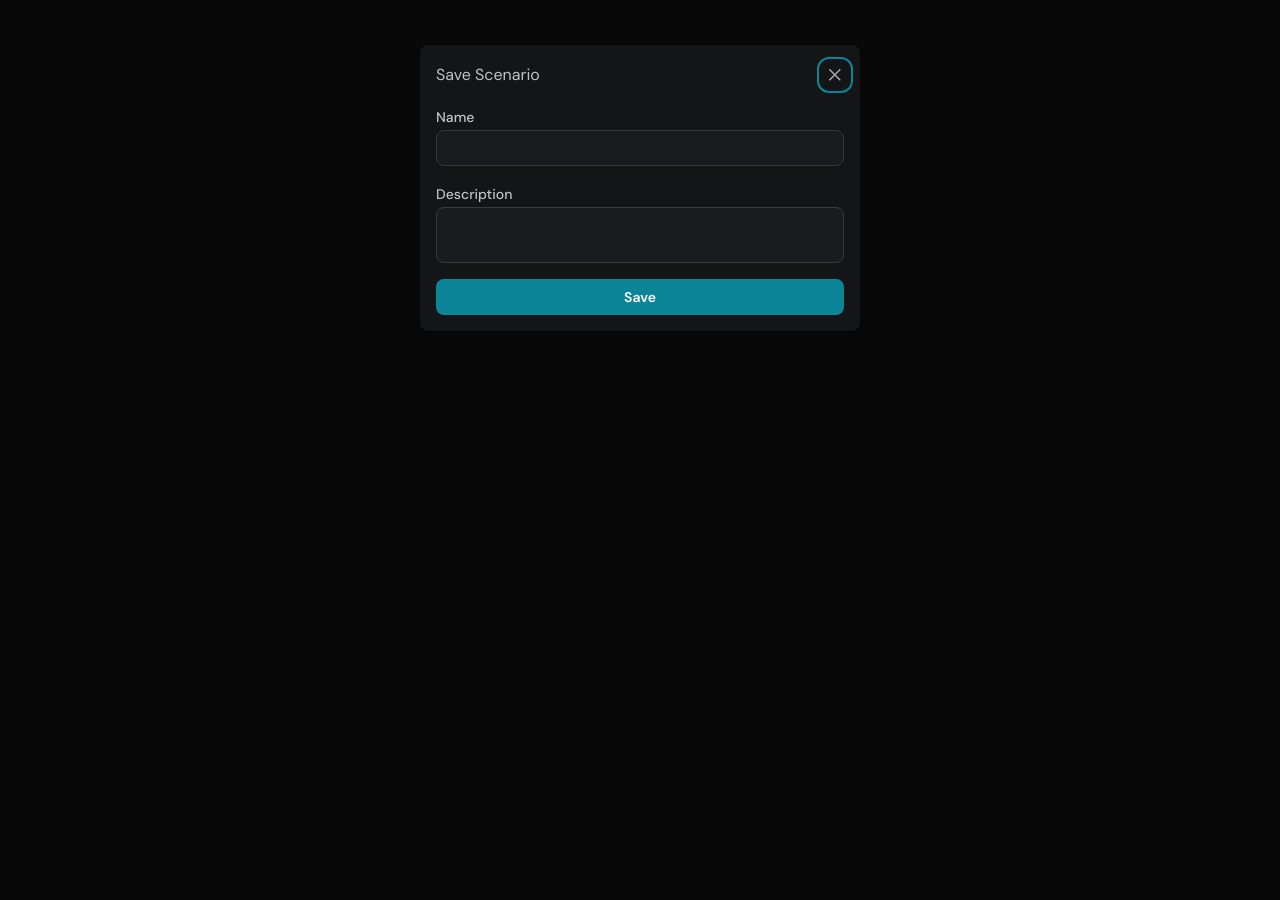
ScenarioSaveModal › validates empty name on submit
Click the button "Save": (640, 297) [436,279,844,315]
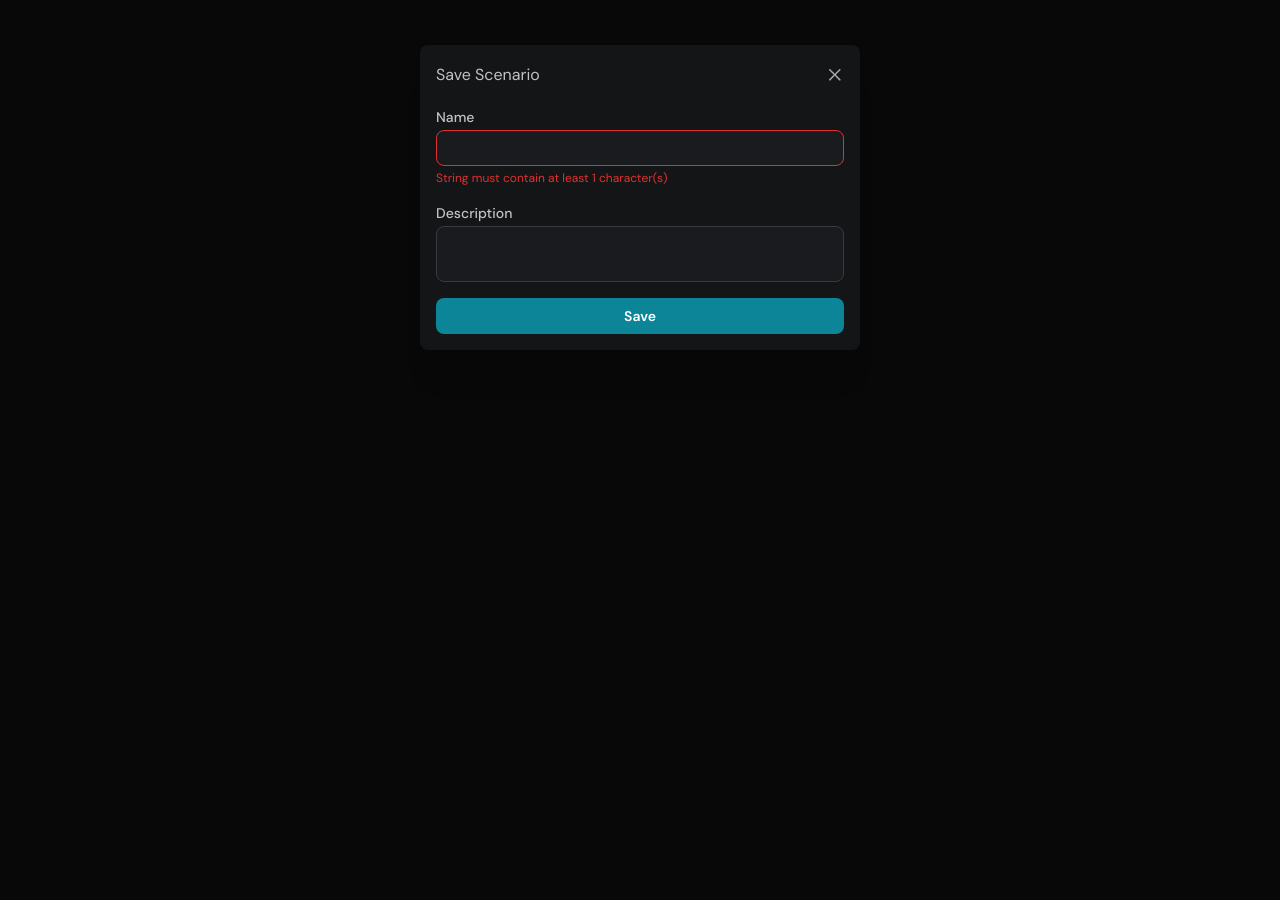
Expected: the text "String must contain at least 1 character(s)" is shown, [436,170,667,186]
